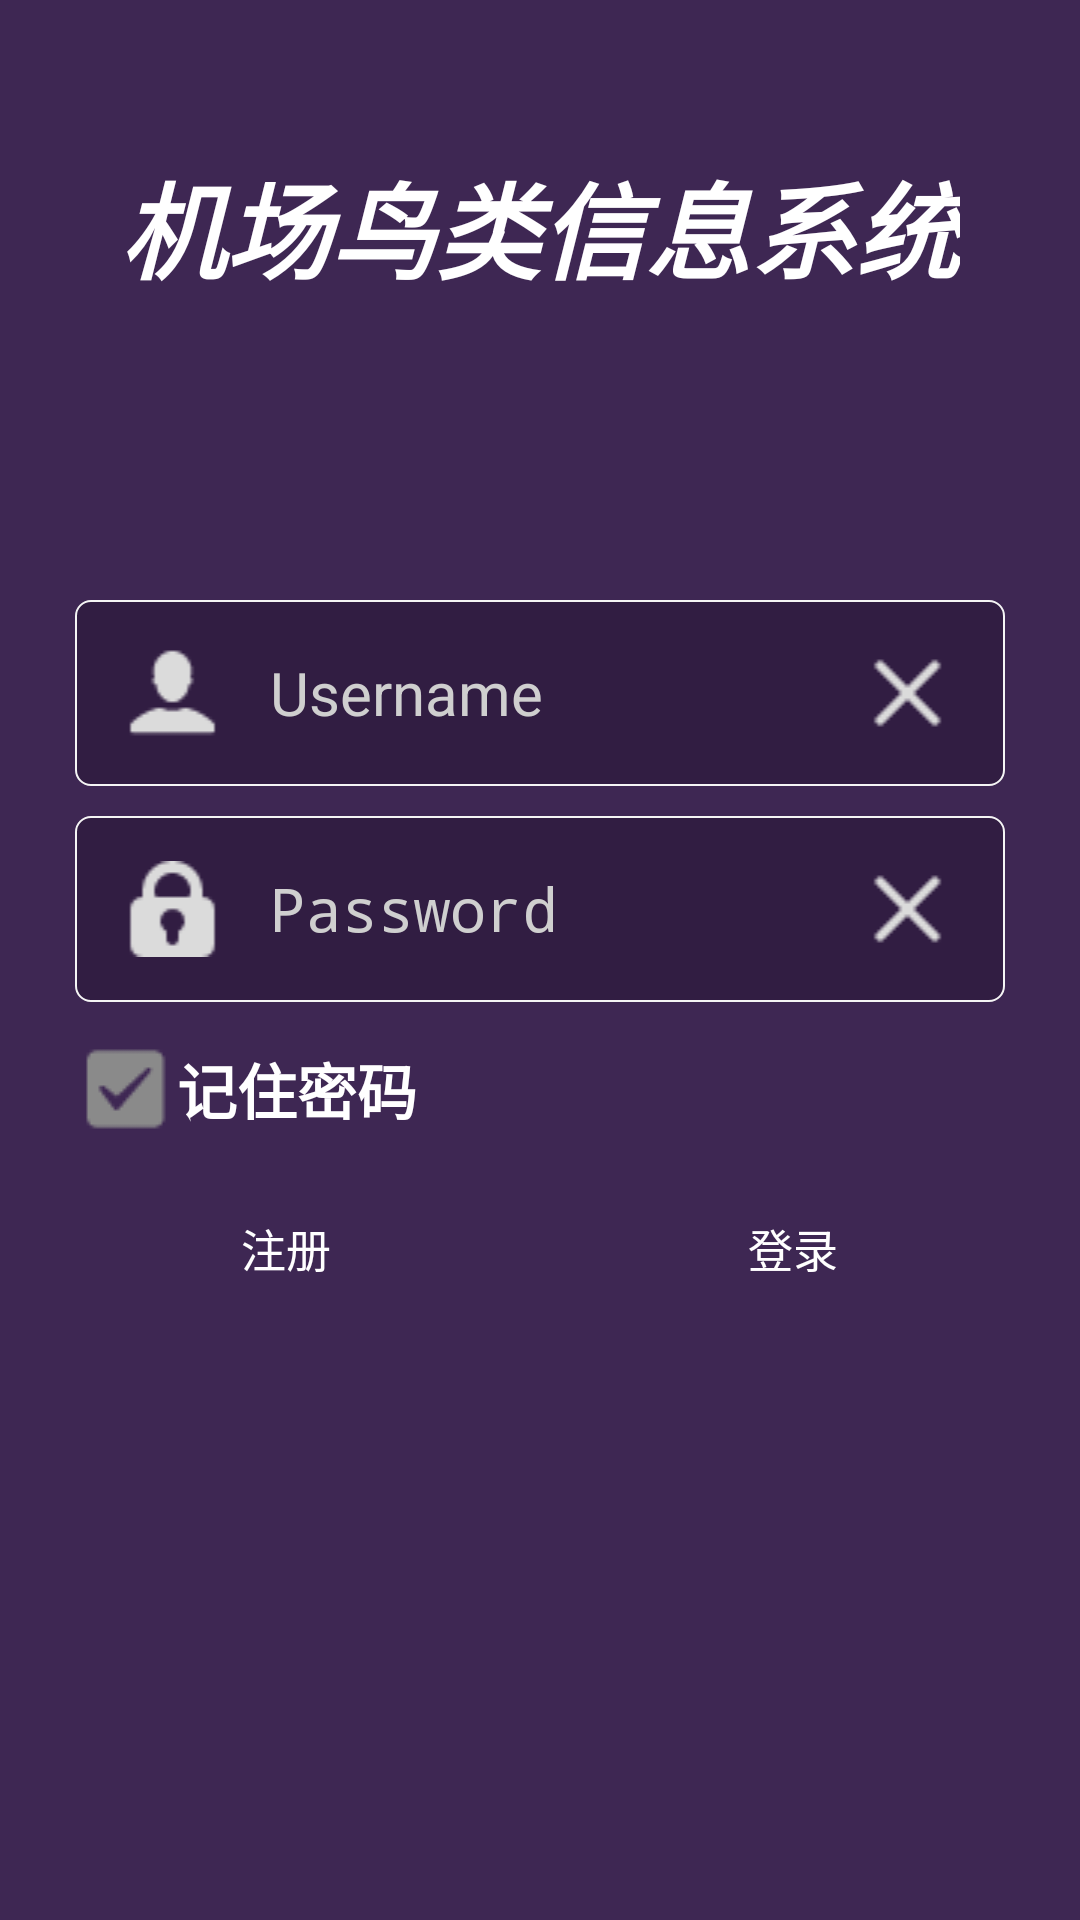

Named icons in this screenshot (1080w x 1920h) and their bounding boxes, (x1=x1, y1=y1, x2=x2, y2=y2):
delete: (x1=874, y1=659, x2=941, y2=727), (x1=874, y1=875, x2=941, y2=943)
